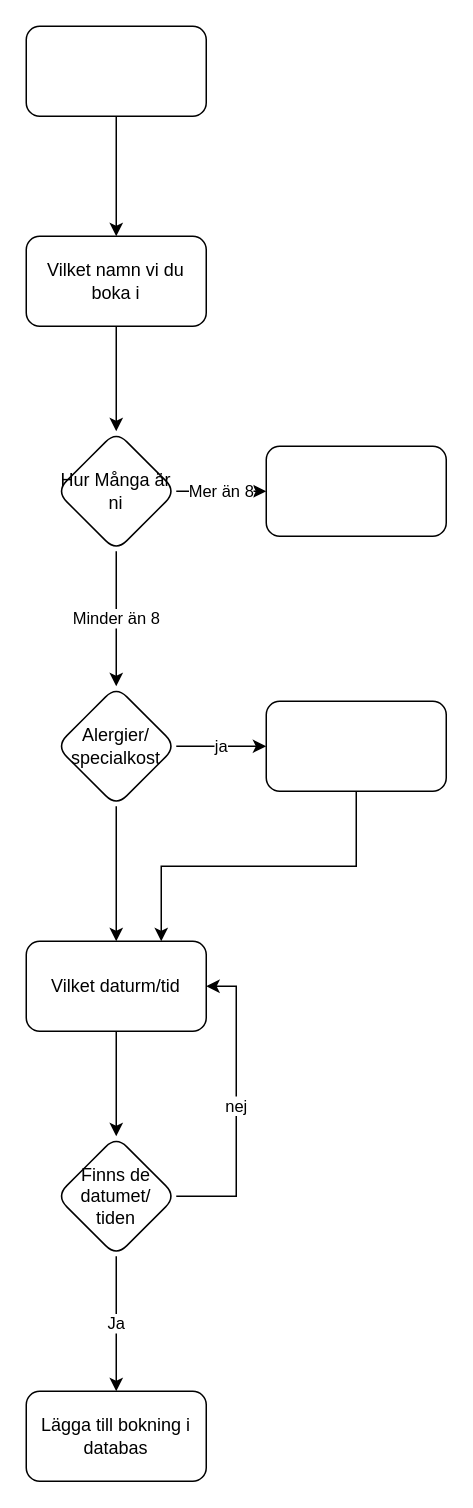
Image size: 473x1508. Some labels were removed from this diagram. Each missing label, with the centre of its shape:
"Klicka i de olika alergierna" belongs at pixel 355 745.
"Start" belongs at pixel 115 70.
"Vi supportar inte mer än 8 vid vanlig bokning" belongs at pixel 355 490.
